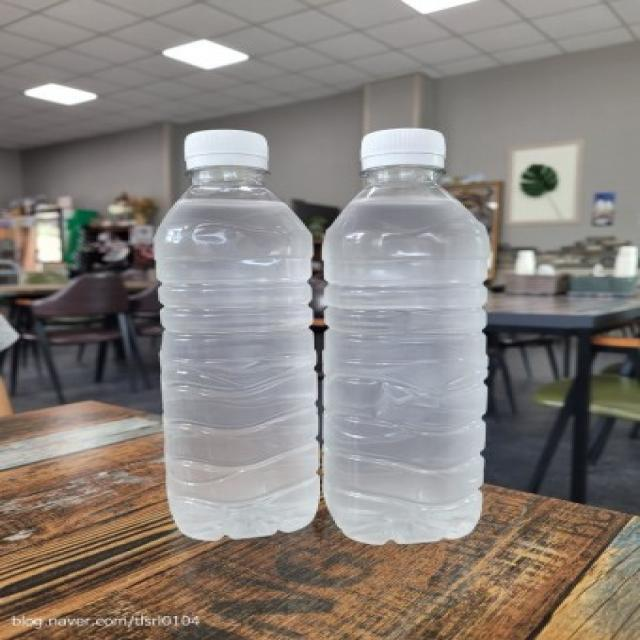plastic_bottle: (321, 128, 493, 546), (153, 129, 320, 541)
